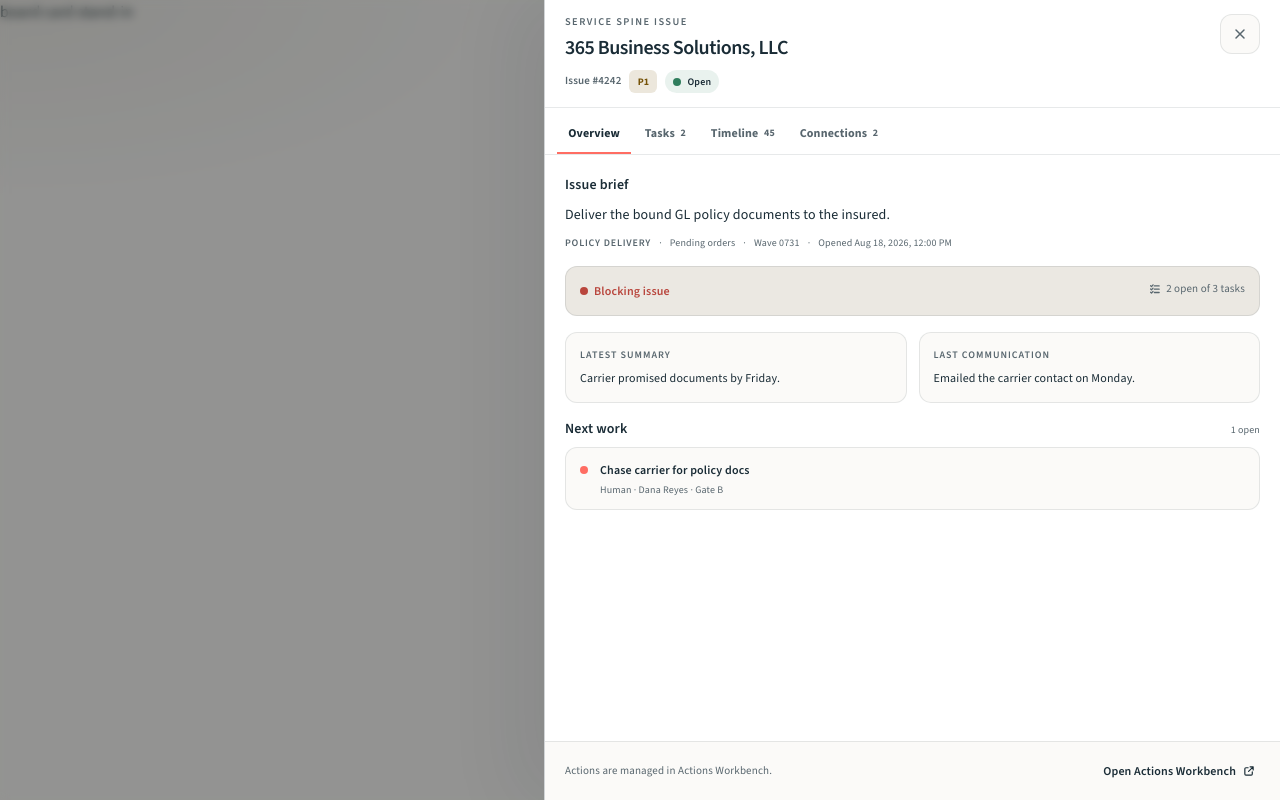
SpineIssueDrawer › filters verified agent events and materializes raw payload only on demand
Expected: the text "Deliver the bound GL policy documents to the insured." is shown, [565, 205, 890, 224]
Click the tab with aria-label "Timeline (45)".
click(743, 134)  # box [700, 114, 786, 154]
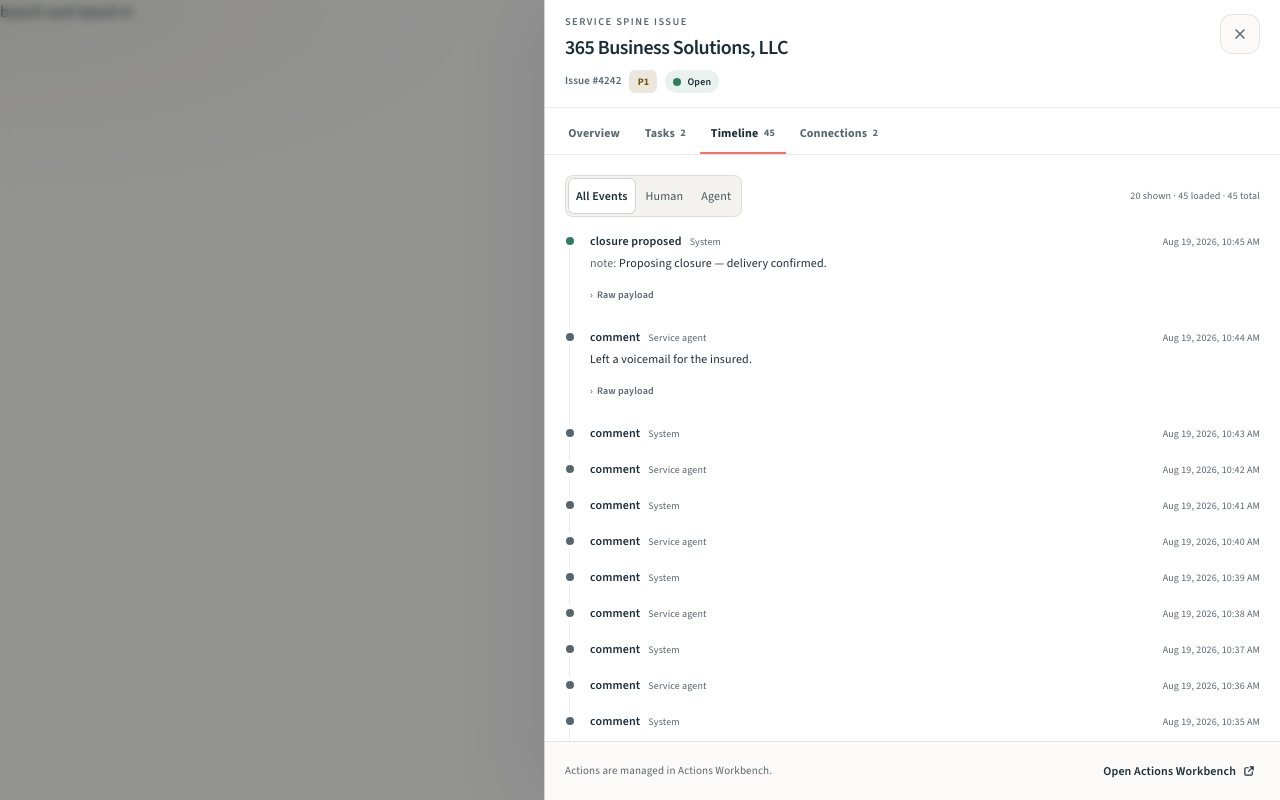
Click the radio button labelled "agent".
click(716, 196)  # box [693, 178, 739, 214]
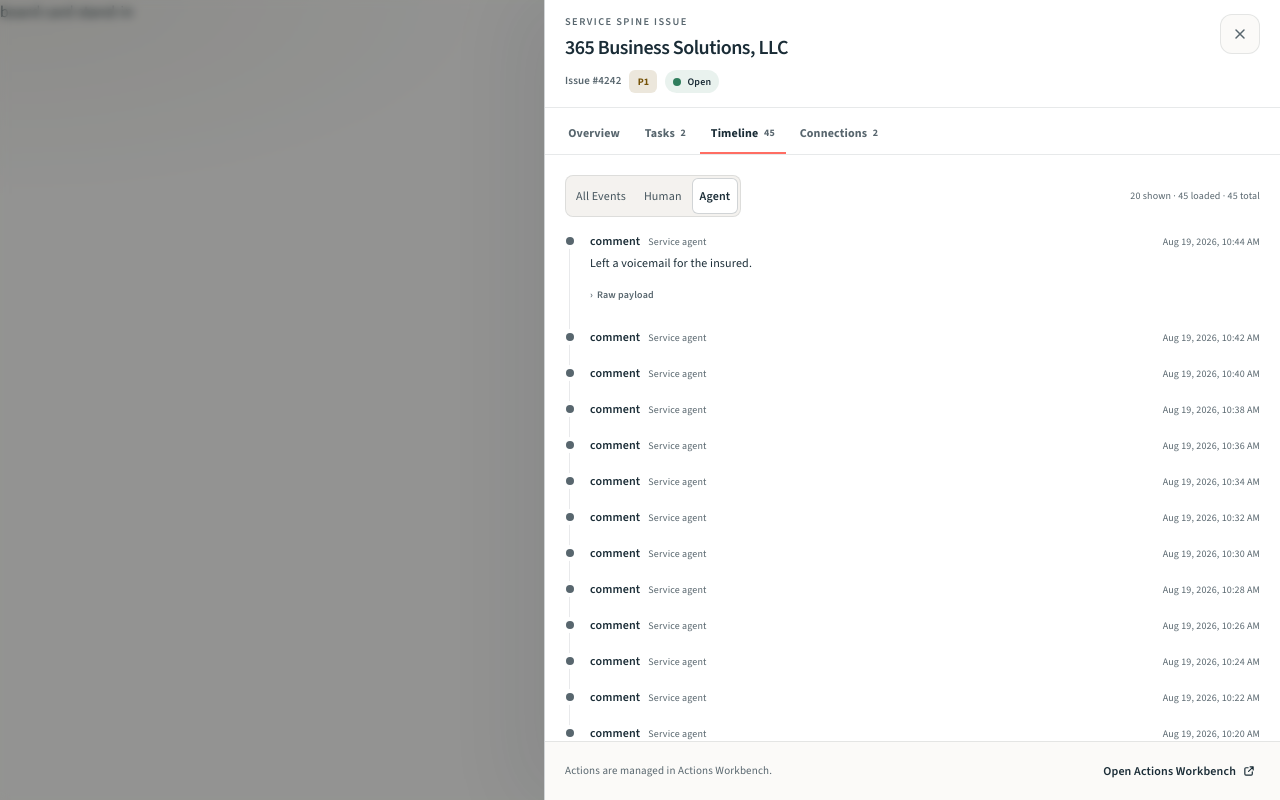
Result: the text "Service agent" is shown 20 times
Click the radio button labelled "All events".
click(601, 196)  # box [568, 178, 634, 214]
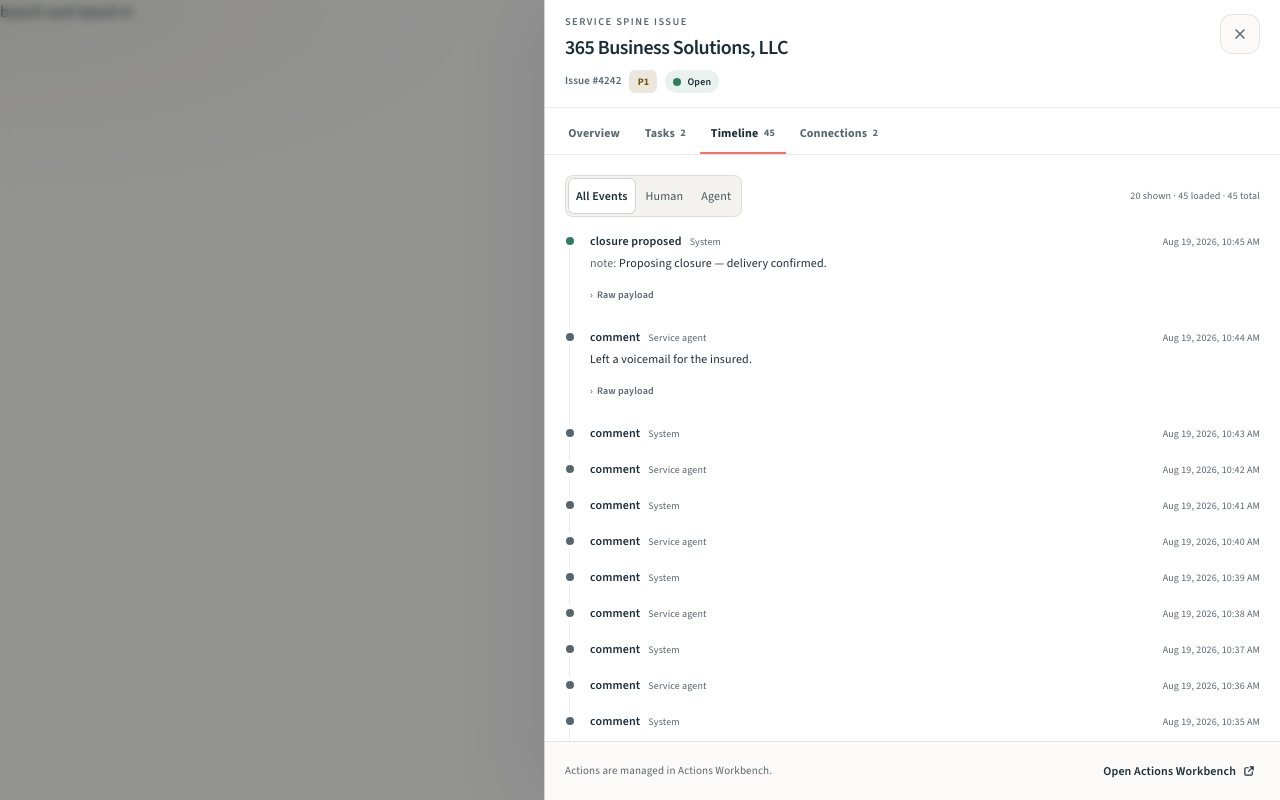
Expected: the text "\"task_id\"" is not shown
Click the button "› Raw payload" below "closure proposed".
click(622, 295)  # box [590, 281, 654, 309]
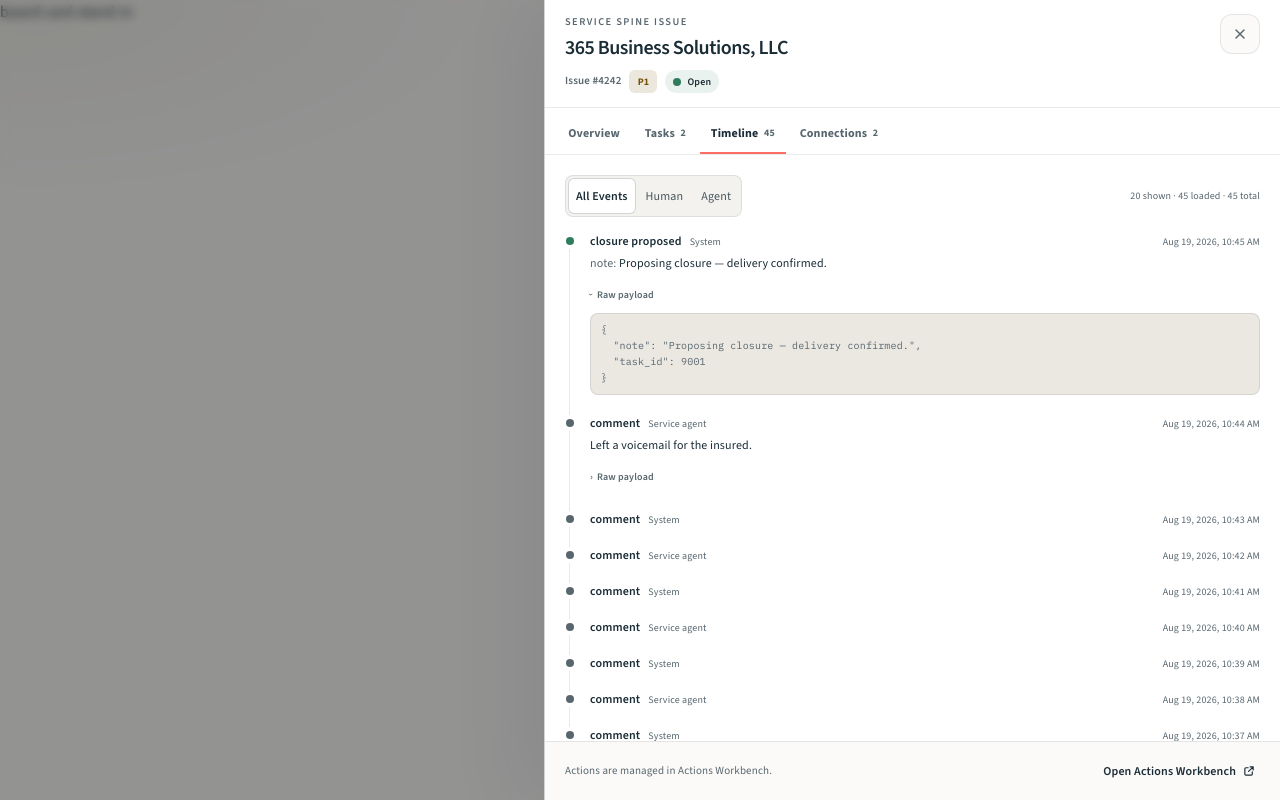
Result: the text "\"task_id\"" is shown at [601, 323, 921, 384]
